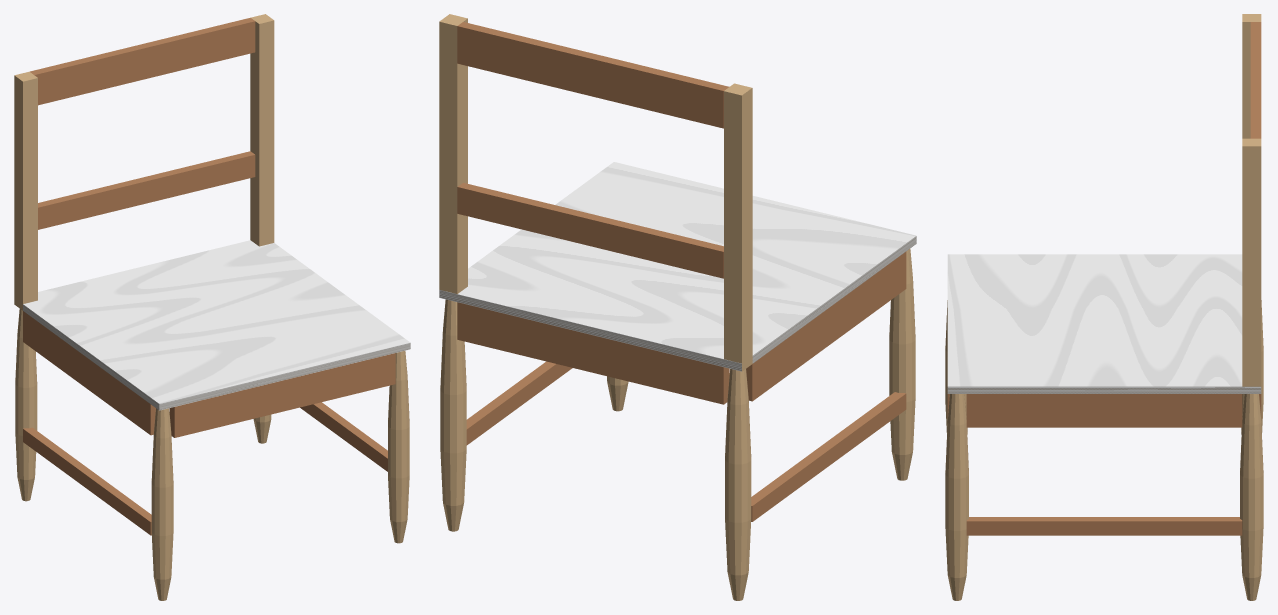
Rendered from CAL-DKC-std.glb.
The picture shows the model from 3 angles, left to right: view 1: azimuth 30°, elevation 25°; view 2: azimuth 150°, elevation 25°; view 3: azimuth 270°, elevation 25°; orthographic projection. The views are drawn at different scales.
Visible parts, largest first — view 1: seat:sheet:eyJtIjoicGx5Iiwic2lkZSI6ImZhY2UiLCJzZWVkIjo2LCJ2Z, leg-bl:pbr, back-top:pbr, rail-f:pbr, back-mid:pbr, leg-br:pbr, rail-l:pbr, leg-fl:pbr, leg-fr:pbr, stretcher-l:pbr, seat:sheet:eyJtIjoicGx5Iiwic2lkZSI6ImVkZ2UtbG9uZyIsInNlZWQiO, stretcher-r:pbr (+1 smaller); view 2: seat:sheet:eyJtIjoicGx5Iiwic2lkZSI6ImZhY2UiLCJzZWVkIjo2LCJ2Z, leg-bl:pbr, leg-br:pbr, back-top:pbr, rail-b:pbr, back-mid:pbr, rail-l:pbr, leg-fl:pbr, stretcher-l:pbr, seat:sheet:eyJtIjoicGx5Iiwic2lkZSI6ImVkZ2UtbG9uZyIsInNlZWQiO, stretcher-r:pbr, seat:sheet:eyJtIjoicGx5Iiwic2lkZSI6ImVkZ2UtZW5kIiwic2VlZCI6N; view 3: seat:sheet:eyJtIjoicGx5Iiwic2lkZSI6ImZhY2UiLCJzZWVkIjo2LCJ2Z, rail-r:pbr, leg-br:pbr, stretcher-r:pbr, leg-fr:pbr, seat:sheet:eyJtIjoicGx5Iiwic2lkZSI6ImVkZ2UtZW5kIiwic2VlZCI6N, leg-bl:pbr, back-top:pbr.
Boxes of the visible parts, bbox=[...] form: seat:sheet:eyJtIjoicGx5Iiwic2lkZSI6ImZhY2UiLCJzZWVkIjo2LCJ2Z: bbox=[23, 240, 409, 403]; leg-bl:pbr: bbox=[14, 71, 37, 501]; back-top:pbr: bbox=[30, 17, 255, 105]; rail-f:pbr: bbox=[169, 353, 395, 437]; back-mid:pbr: bbox=[38, 151, 255, 229]; leg-br:pbr: bbox=[250, 14, 274, 443]; rail-l:pbr: bbox=[23, 311, 155, 435]; leg-fl:pbr: bbox=[151, 408, 173, 600]; leg-fr:pbr: bbox=[388, 351, 409, 543]; stretcher-l:pbr: bbox=[23, 427, 151, 535]; seat:sheet:eyJtIjoicGx5Iiwic2lkZSI6ImVkZ2UtbG9uZyIsInNlZWQiO: bbox=[159, 342, 410, 410]; stretcher-r:pbr: bbox=[300, 402, 387, 471]; seat:sheet:eyJtIjoicGx5Iiwic2lkZSI6ImZhY2UiLCJzZWVkIjo2LCJ2Z: bbox=[458, 162, 916, 358]; leg-bl:pbr: bbox=[724, 83, 752, 600]; leg-br:pbr: bbox=[439, 14, 467, 531]; back-top:pbr: bbox=[457, 22, 729, 128]; rail-b:pbr: bbox=[457, 302, 729, 404]; back-mid:pbr: bbox=[457, 182, 723, 278]; rail-l:pbr: bbox=[746, 251, 906, 401]; leg-fl:pbr: bbox=[889, 249, 915, 480]; stretcher-l:pbr: bbox=[751, 392, 906, 521]; seat:sheet:eyJtIjoicGx5Iiwic2lkZSI6ImVkZ2UtbG9uZyIsInNlZWQiO: bbox=[439, 290, 741, 371]; stretcher-r:pbr: bbox=[466, 361, 572, 445]; seat:sheet:eyJtIjoicGx5Iiwic2lkZSI6ImVkZ2UtZW5kIiwic2VlZCI6N: bbox=[752, 236, 916, 363]; seat:sheet:eyJtIjoicGx5Iiwic2lkZSI6ImZhY2UiLCJzZWVkIjo2LCJ2Z: bbox=[947, 254, 1242, 386]; rail-r:pbr: bbox=[966, 394, 1242, 427]; leg-br:pbr: bbox=[1240, 138, 1263, 600]; stretcher-r:pbr: bbox=[966, 517, 1242, 535]; leg-fr:pbr: bbox=[945, 394, 968, 600]; seat:sheet:eyJtIjoicGx5Iiwic2lkZSI6ImVkZ2UtZW5kIiwic2VlZCI6N: bbox=[947, 386, 1261, 393]; leg-bl:pbr: bbox=[1241, 14, 1263, 434]; back-top:pbr: bbox=[1250, 22, 1261, 138].
Bounding box in the file's own units: 0.6 × 0.95 × 0.6.
15 materials, 3 textured.
